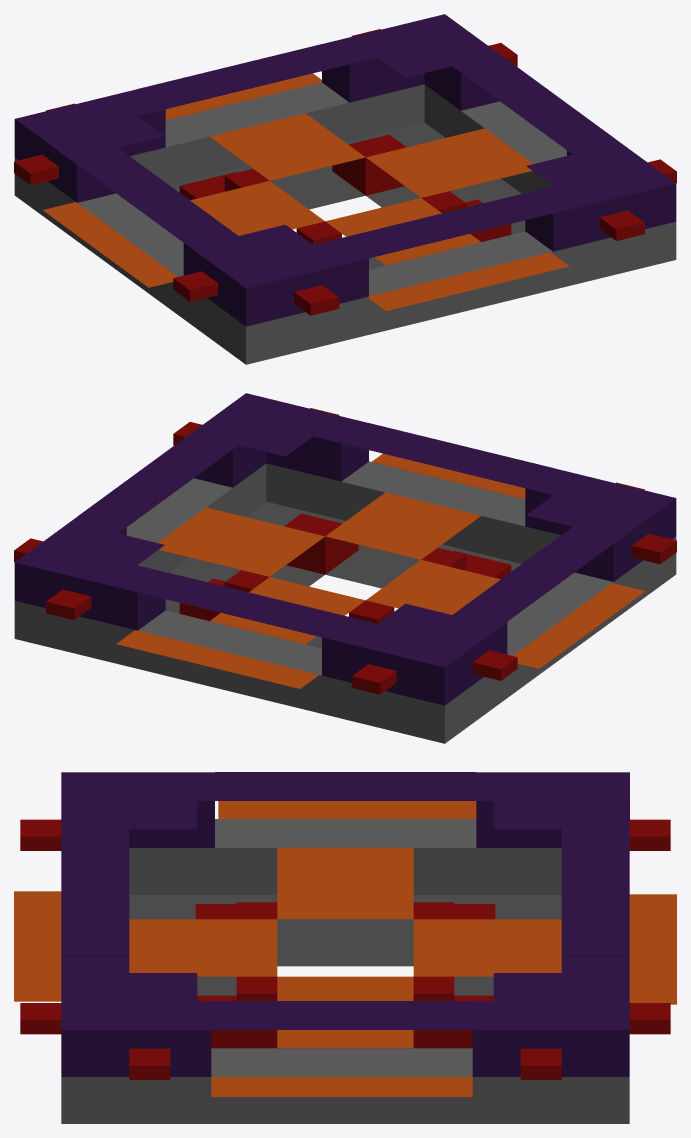
Rendered from arene_tourV2.FBX.
The picture shows the model from 3 angles, top to bottom: view 1: azimuth 30°, elevation 25°; view 2: azimuth 150°, elevation 25°; view 3: azimuth 270°, elevation 25°; orthographic projection. The views are drawn at different scales.
Parts seen in each view (by area): view 1: Box003, Box002, Box006, Box095, Box004, Box089, Plane018, Box093, Plane021, Plane011, Plane012, Plane013 (+26 smaller); view 2: Box002, Box003, Box006, Plane018, Box093, Box096, Plane023, Box091, Box089, Box004, Plane011, Plane012 (+26 smaller); view 3: Box004, Box006, Plane001, Plane019, Box092, Box094, Plane021, Plane023, Box093, Plane011, Plane012, Plane013 (+35 smaller).
Boxes of the visible parts, left/top/right/bottom form: Box003: left=218, top=231, right=628, bottom=364; Box002: left=130, top=82, right=424, bottom=184; Box006: left=14, top=157, right=293, bottom=364; Box095: left=218, top=238, right=368, bottom=326; Box004: left=424, top=84, right=676, bottom=271; Box089: left=525, top=175, right=676, bottom=251; Plane018: left=366, top=128, right=532, bottom=197; Box093: left=322, top=14, right=472, bottom=102; Plane021: left=210, top=113, right=365, bottom=180; Plane011: left=138, top=44, right=349, bottom=109; Plane012: left=342, top=193, right=552, bottom=258; Plane013: left=77, top=153, right=231, bottom=242; Box002: left=14, top=601, right=444, bottom=743; Box003: left=266, top=461, right=676, bottom=593; Box006: left=397, top=559, right=673, bottom=743; Plane018: left=158, top=507, right=324, bottom=576; Box093: left=14, top=551, right=165, bottom=630; Box096: left=396, top=610, right=507, bottom=705; Plane023: left=325, top=492, right=480, bottom=559; Box091: left=322, top=617, right=472, bottom=705; Box089: left=218, top=393, right=368, bottom=481; Box004: left=126, top=463, right=266, bottom=572; Plane011: left=138, top=572, right=348, bottom=637; Plane012: left=341, top=423, right=552, bottom=488; Box004: left=61, top=1048, right=619, bottom=1123; Box006: left=129, top=819, right=561, bottom=894; Plane001: left=129, top=895, right=561, bottom=966; Plane019: left=277, top=847, right=413, bottom=919; Box092: left=472, top=1001, right=629, bottom=1076; Box094: left=61, top=1001, right=211, bottom=1076; Plane021: left=413, top=919, right=561, bottom=976; Plane023: left=129, top=919, right=277, bottom=976; Box093: left=561, top=956, right=629, bottom=1076; Plane011: left=561, top=845, right=629, bottom=956; Plane012: left=61, top=845, right=129, bottom=956; Plane013: left=215, top=772, right=476, bottom=800.
Size of the model in its own units: 5181 by 763 by 4874.
